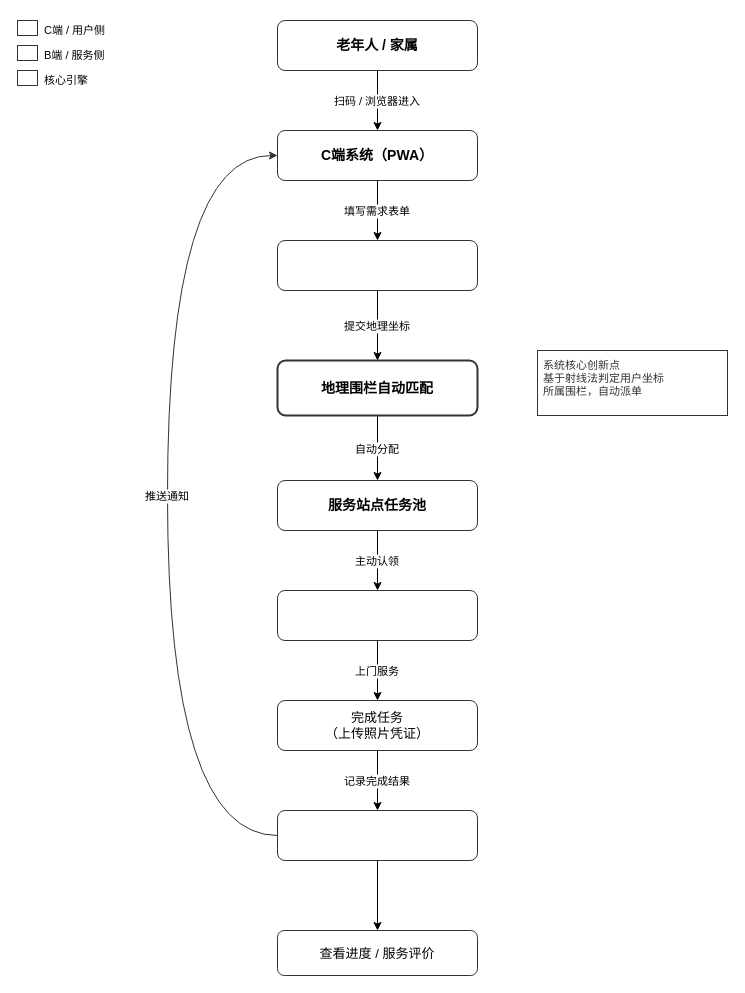
Image size: 745x993. Some labels were removed from this diagram. Each missing label, with the centre of its shape:
B端管理系统: pixel 377 835
在线填写需求 + 自动定位: pixel 377 265
工作人员: pixel 377 615
